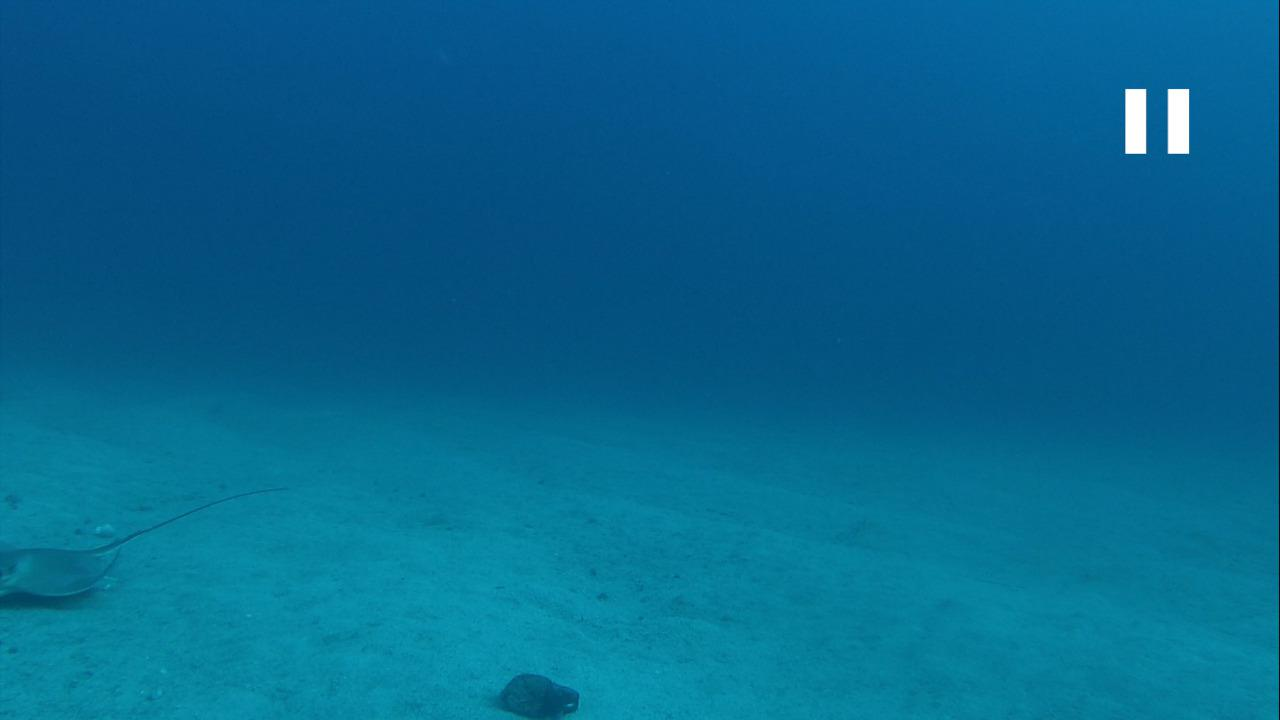myliobatis: (11, 480, 301, 607)
